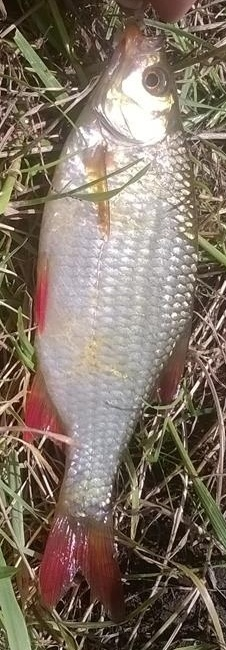Scardinius erythrophthalmus: (20, 20, 206, 630)
